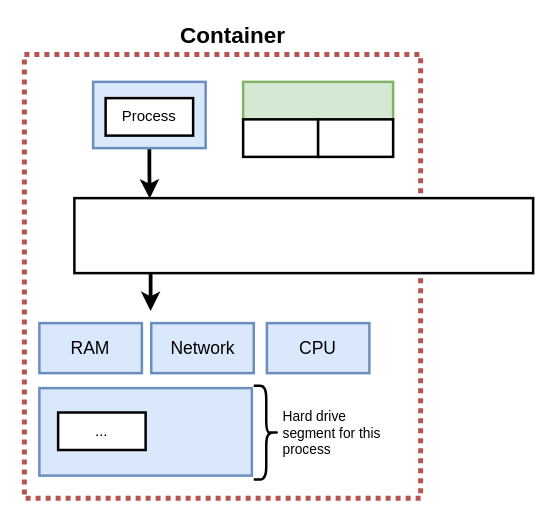
This 555x521 diagram has some shape labels left out. The centre of each missing label's shape, as x and y in pixels:
Env Variables: pixel 317 100
Kernel: pixel 303 235
